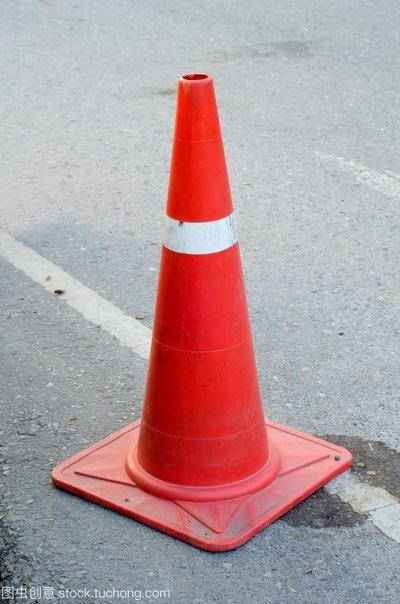cone_barrel: (117, 74, 275, 489)
